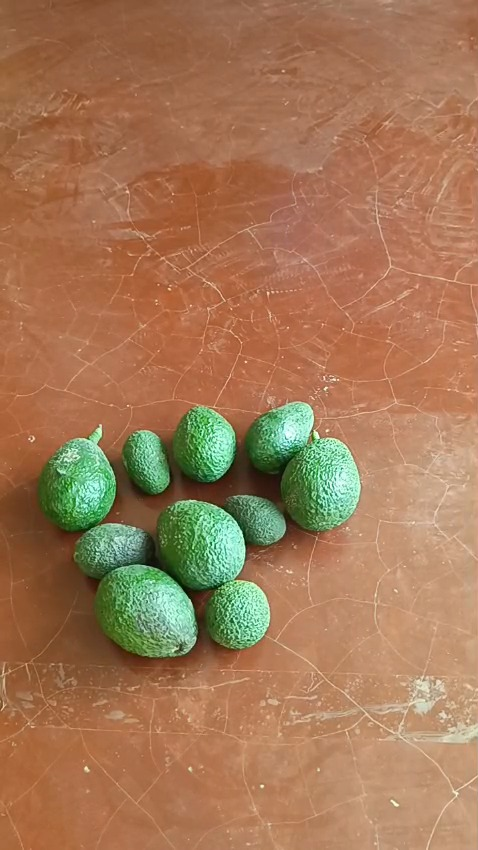Primera: (93, 563, 199, 656), (155, 499, 245, 589), (281, 432, 362, 530), (36, 438, 116, 531)
Segunda: (245, 400, 315, 474), (171, 405, 238, 482)
Tercera: (72, 521, 152, 581), (204, 580, 270, 649), (223, 494, 286, 546), (122, 428, 171, 494)
